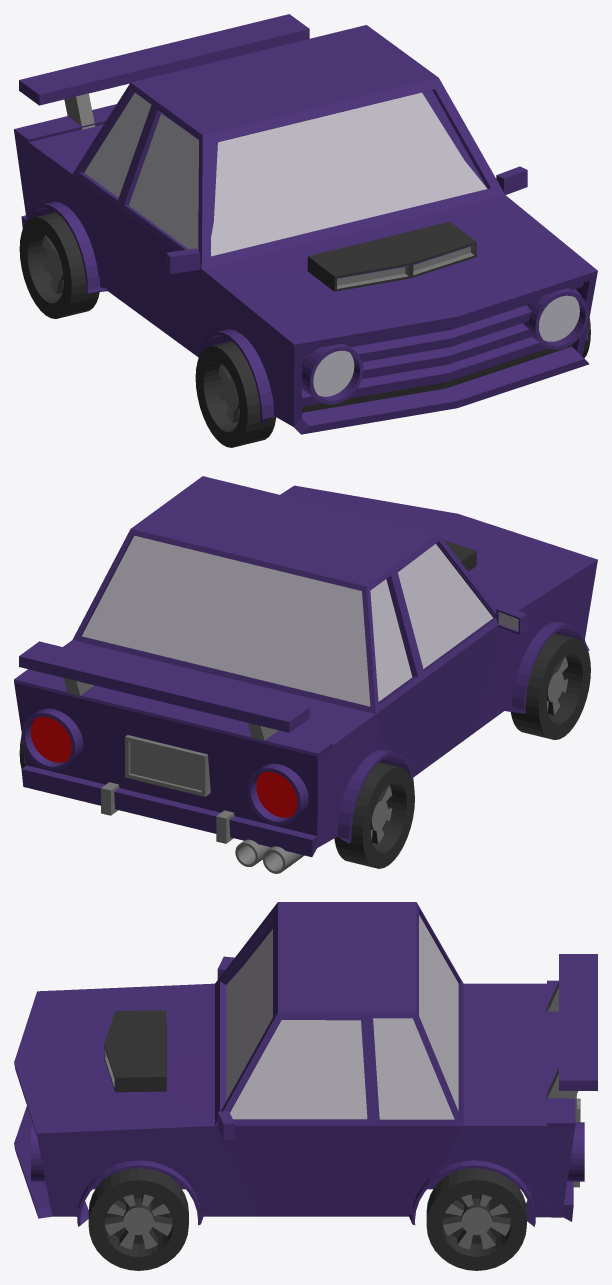
File: carOne.glb
3 views of the same model, one above another, from view 1: azimuth 30°, elevation 25°; view 2: azimuth 150°, elevation 25°; view 3: azimuth 270°, elevation 25° (orthographic). The views are drawn at different scales.
Visible parts, largest first — view 1: Cube, Cylinder.002, Cube.004, Cylinder, Cube.001, Cube.003; view 2: Cube, Cylinder.002, Cube.004, Cylinder, Cube.002, Cylinder.001, Cube.005, Cube.001, Cube.003; view 3: Cube, Cylinder.002, Cube.004, Cylinder, Cube.001, Cube.003.
Boxes of the visible parts, bbox=[...] form: Cube: bbox=[14, 25, 597, 434]; Cylinder.002: bbox=[19, 212, 590, 447]; Cube.004: bbox=[19, 14, 309, 105]; Cylinder: bbox=[302, 288, 588, 404]; Cube.001: bbox=[166, 166, 527, 273]; Cube.003: bbox=[64, 93, 95, 129]; Cube: bbox=[14, 476, 597, 857]; Cylinder.002: bbox=[19, 633, 590, 868]; Cube.004: bbox=[19, 641, 309, 732]; Cylinder: bbox=[21, 708, 308, 825]; Cube.002: bbox=[125, 735, 210, 796]; Cylinder.001: bbox=[235, 839, 304, 873]; Cube.005: bbox=[101, 782, 234, 843]; Cube.001: bbox=[496, 605, 527, 634]; Cube.003: bbox=[63, 678, 278, 740]; Cube: bbox=[14, 902, 575, 1226]; Cylinder.002: bbox=[88, 1168, 526, 1270]; Cube.004: bbox=[559, 954, 597, 1090]; Cylinder: bbox=[31, 1122, 584, 1181]; Cube.001: bbox=[217, 956, 234, 1140]; Cube.003: bbox=[546, 981, 578, 1100].
Bounding box in the file's own units: 3.73 × 2.42 × 5.49.
